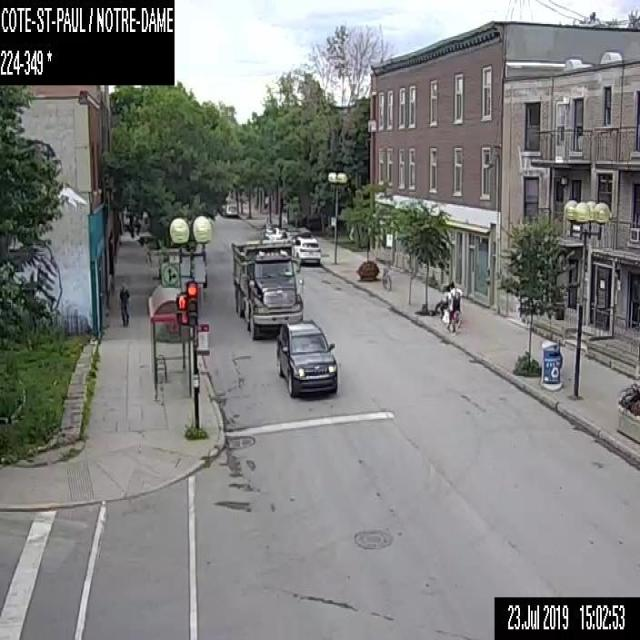pedestrian: (445, 280, 461, 333), (430, 284, 450, 318), (117, 283, 130, 325)
vehicle: (230, 238, 304, 340), (276, 318, 338, 399), (292, 236, 320, 263), (221, 196, 237, 215), (268, 226, 286, 242), (260, 222, 277, 238), (279, 230, 299, 241)
